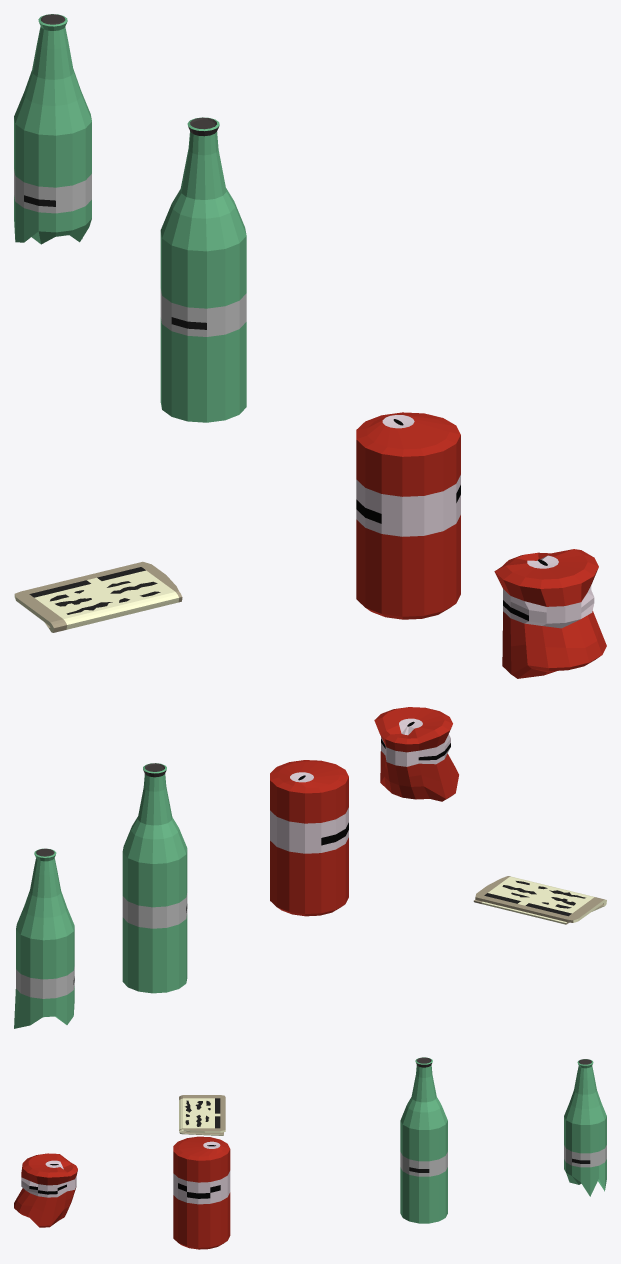
The model's file is banki.fbx.
3 views of the same model, one above another, from view 1: azimuth 30°, elevation 25°; view 2: azimuth 150°, elevation 25°; view 3: azimuth 270°, elevation 25° (orthographic). The views are drawn at different scales.
Parts seen in each view (by area): view 1: butilka, banka, butilka poza.013, banka myztayz, bymaga; view 2: butilka, banka, butilka poza.013, banka myztayz, bymaga; view 3: butilka, banka, butilka poza.013, banka myztayz, bymaga.
Boxes of the visible parts, x1=… form: butilka: x1=160, y1=117, x2=246, y2=422; banka: x1=356, y1=412, x2=460, y2=619; butilka poza.013: x1=14, y1=14, x2=91, y2=244; banka myztayz: x1=494, y1=549, x2=606, y2=678; bymaga: x1=14, y1=561, x2=182, y2=632; butilka: x1=122, y1=763, x2=187, y2=993; banka: x1=270, y1=760, x2=348, y2=916; butilka poza.013: x1=14, y1=848, x2=74, y2=1028; banka myztayz: x1=374, y1=707, x2=458, y2=801; bymaga: x1=473, y1=876, x2=606, y2=924; butilka: x1=400, y1=1057, x2=447, y2=1223; banka: x1=173, y1=1136, x2=230, y2=1249; butilka poza.013: x1=564, y1=1059, x2=606, y2=1196; banka myztayz: x1=14, y1=1153, x2=77, y2=1227; bymaga: x1=179, y1=1095, x2=225, y2=1135.
Size of the model in its own units: 597 by 445 by 1339.
